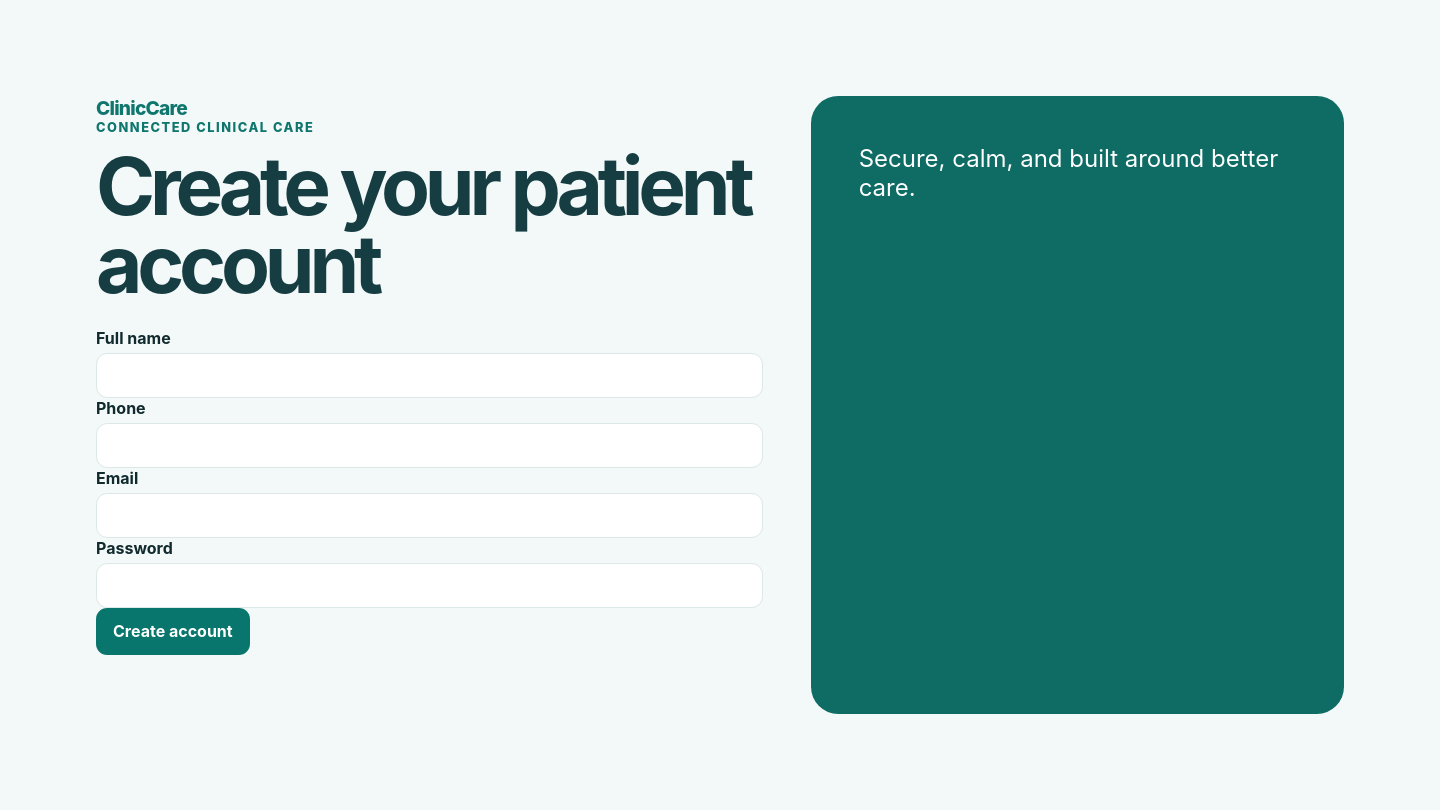
Test: SignUpPage › prevents duplicate submission and clears loading after completion
Step 1. Type "Test Patient" into the field labelled "Full name" → x=429, y=376, box [96,353,763,398]
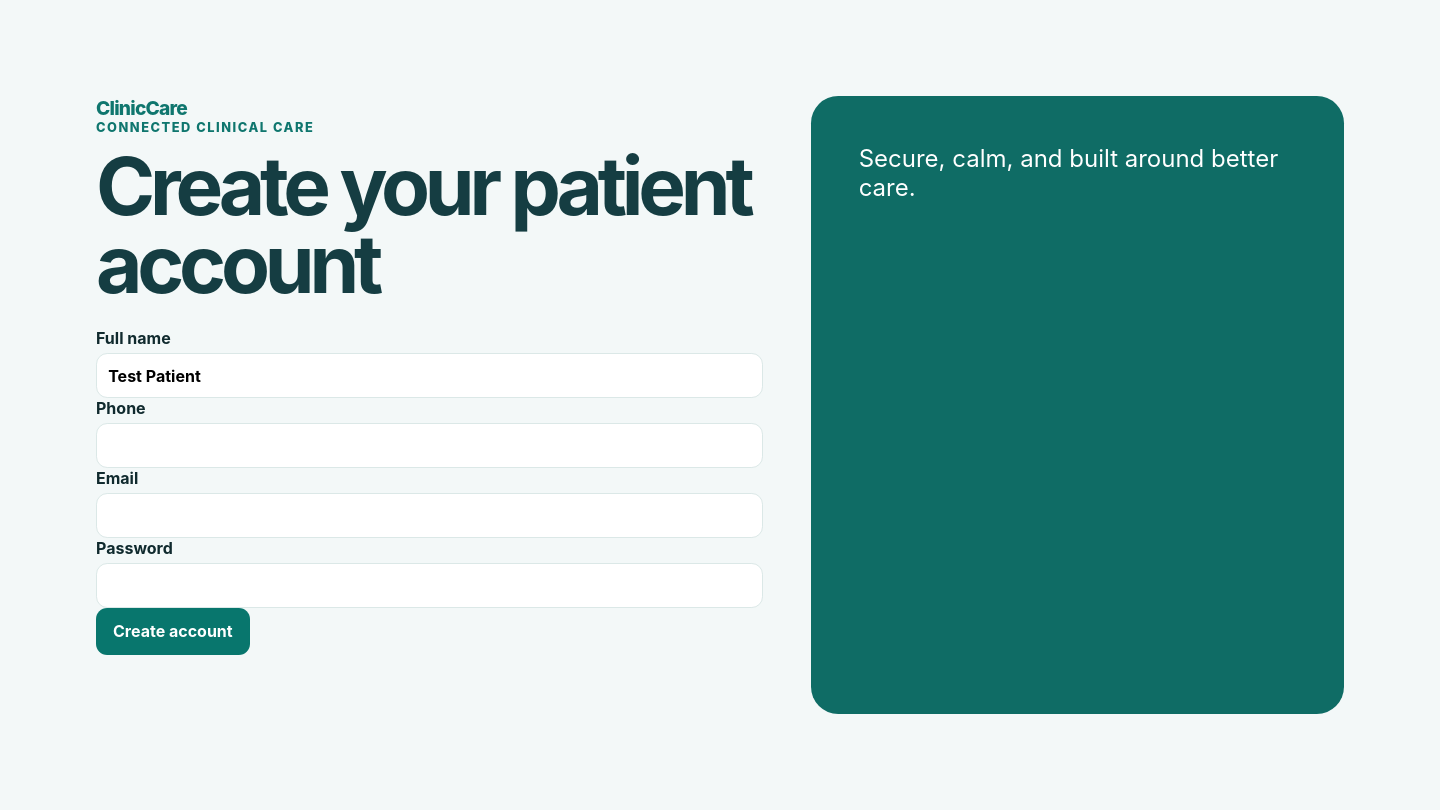
Step 2. Type "03001234567" into the field labelled "Phone" → x=429, y=446, box [96,423,763,468]
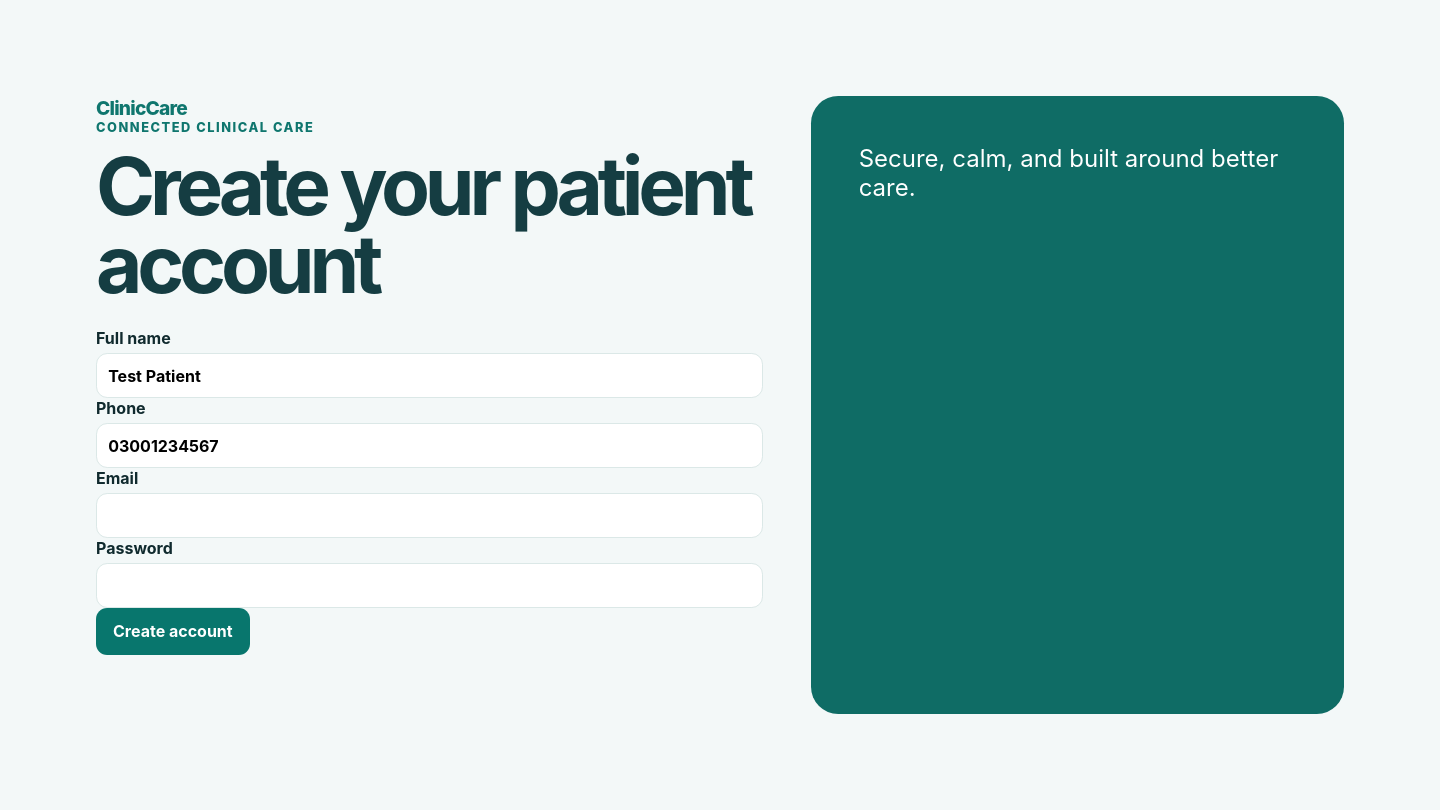
Step 3. Type "patient@example.test" into the field labelled "Email" → x=429, y=516, box [96,493,763,538]
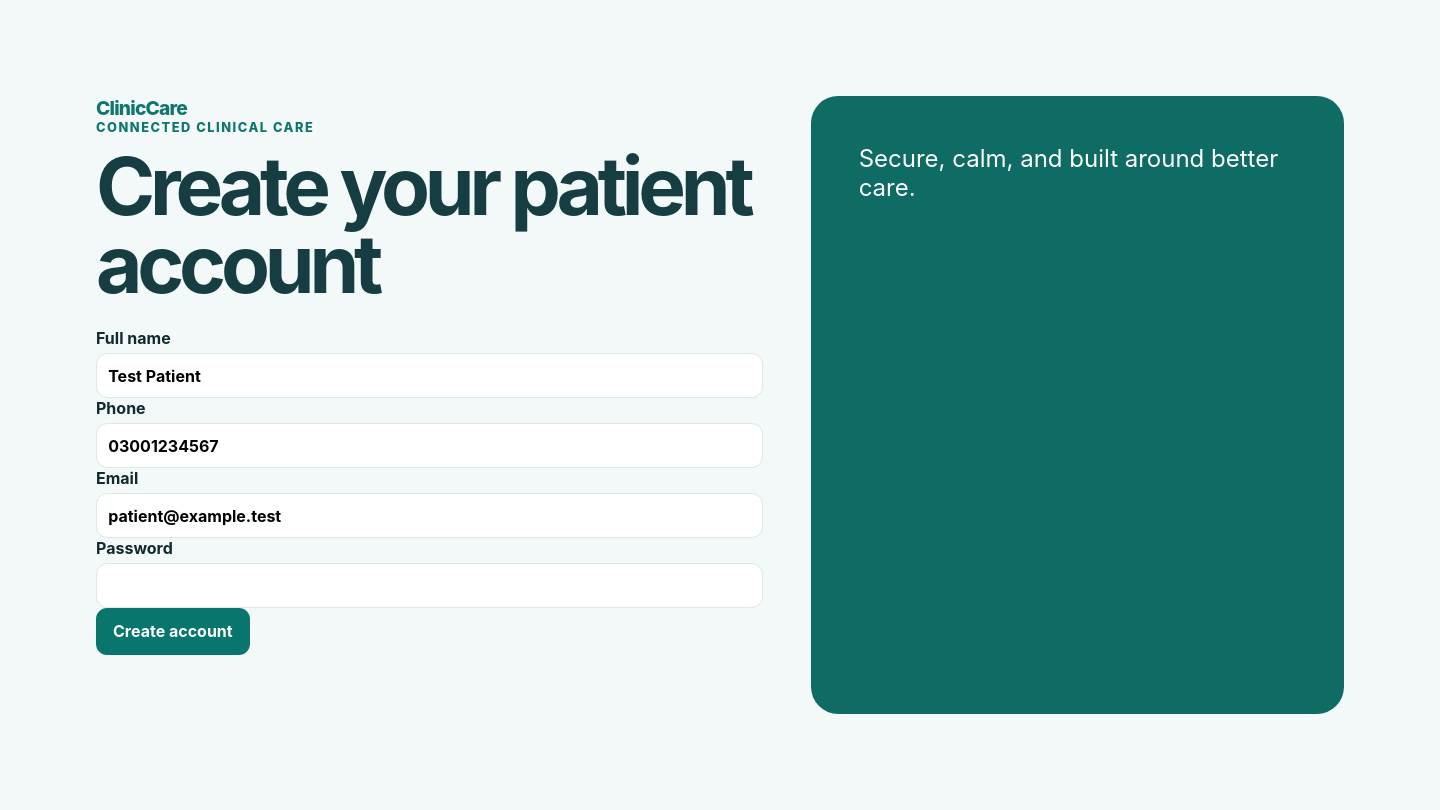
Step 4. Type "safe-password" into the password field labelled "Password" → x=429, y=586, box [96,563,763,608]
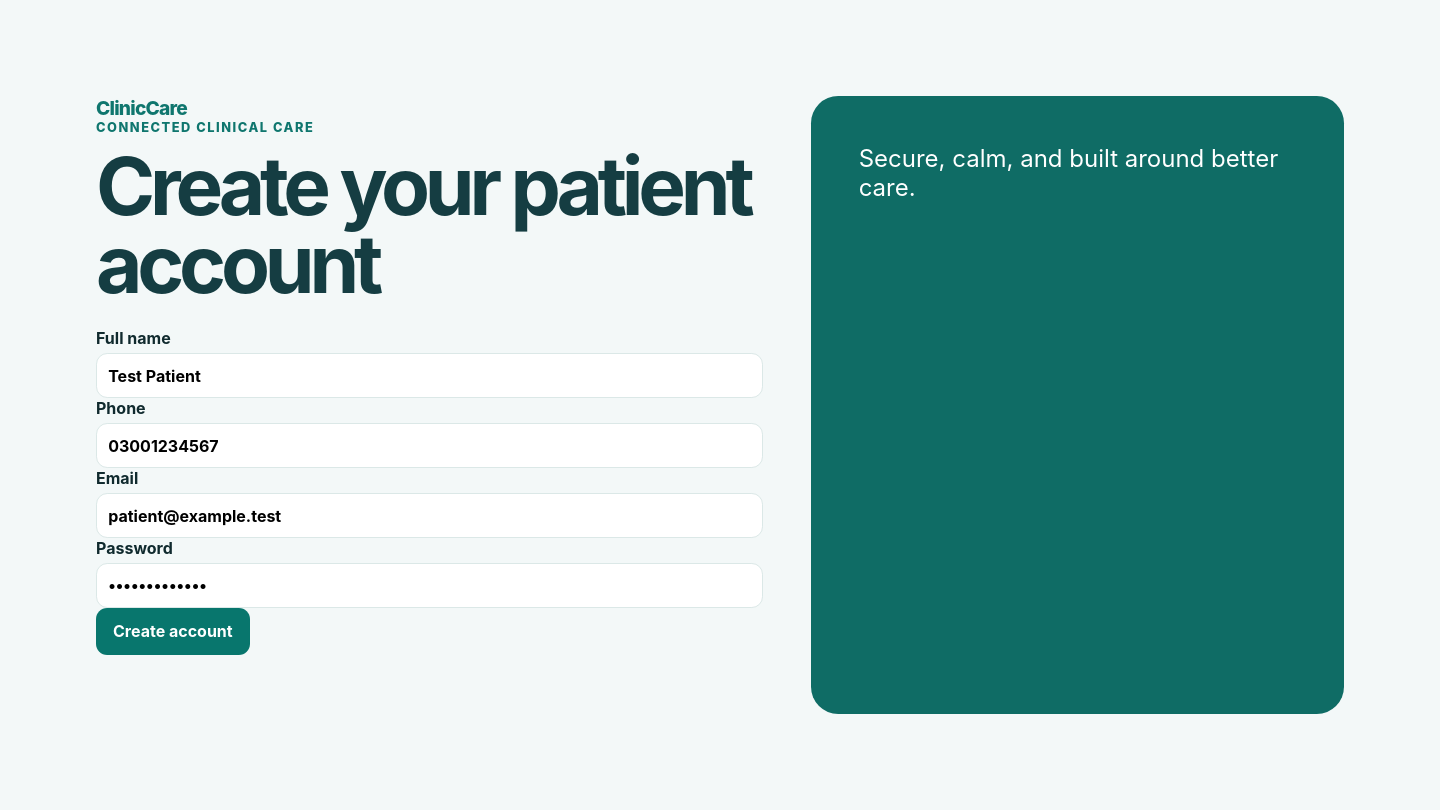
Step 5. Submit the form "Create account", box [96,328,763,655]
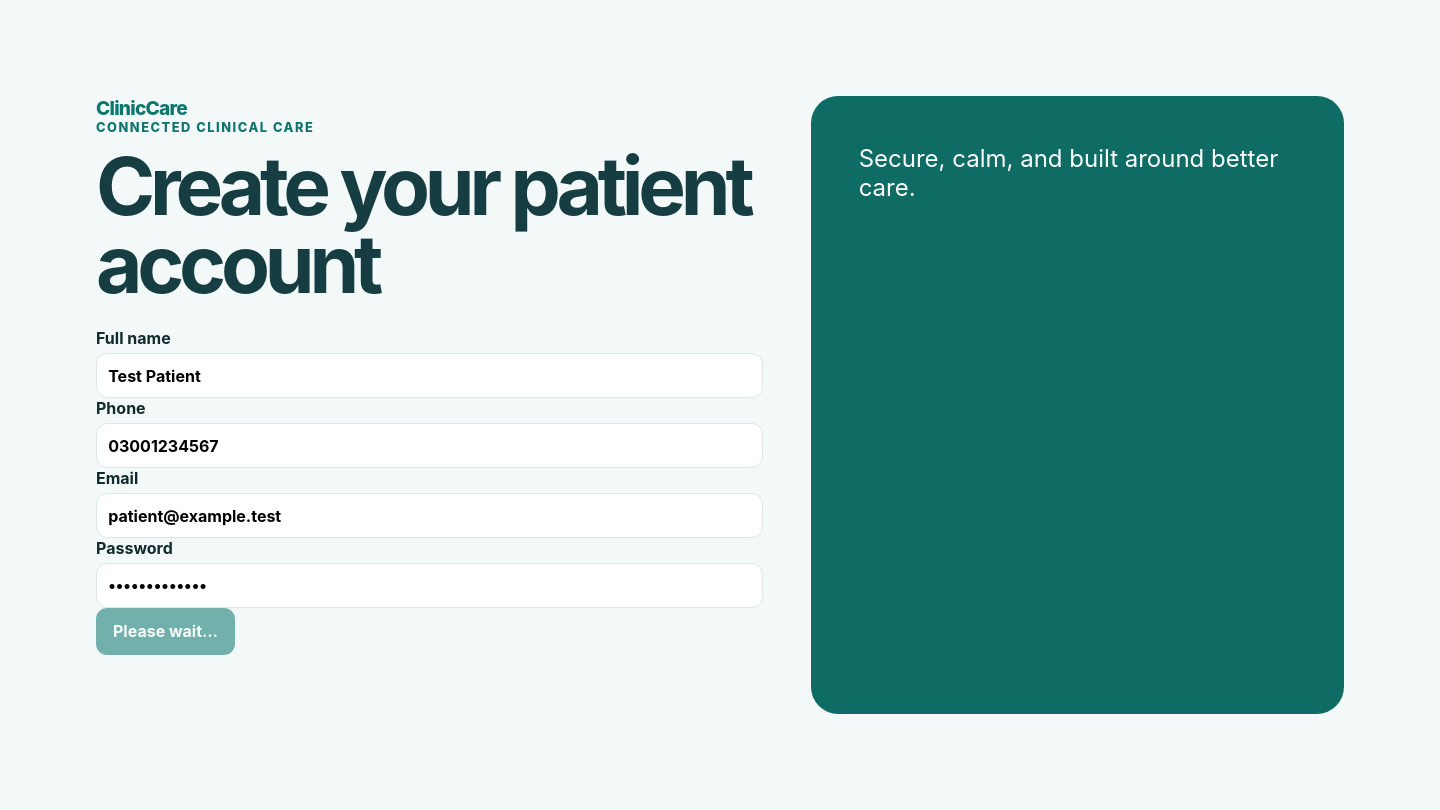
Expected: the button "Please wait…" is disabled, [96,608,235,655]
Step 6. Submit the form named "Create account", box [96,328,763,655]
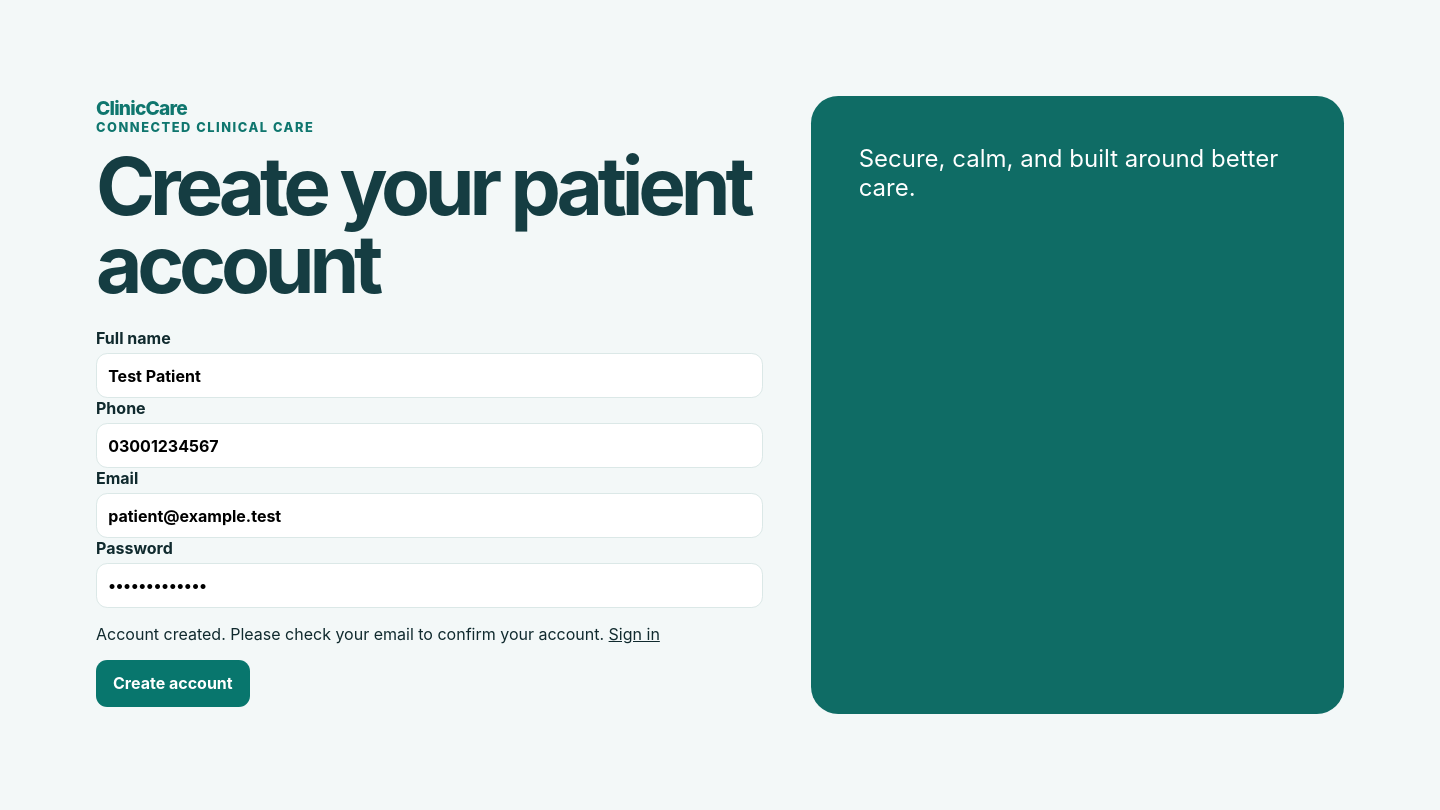
Expected: the button "Create account" is enabled, [96,660,250,707]
